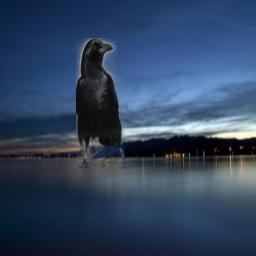Crow: (76, 38, 125, 168)
